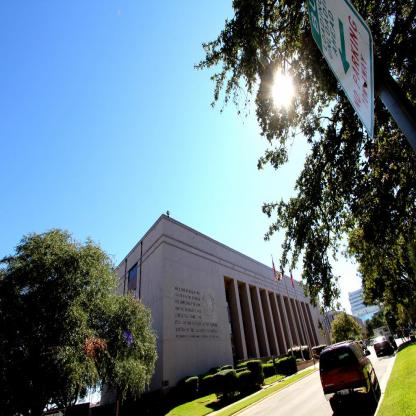Car: (318, 339, 383, 416), (373, 337, 395, 358)
